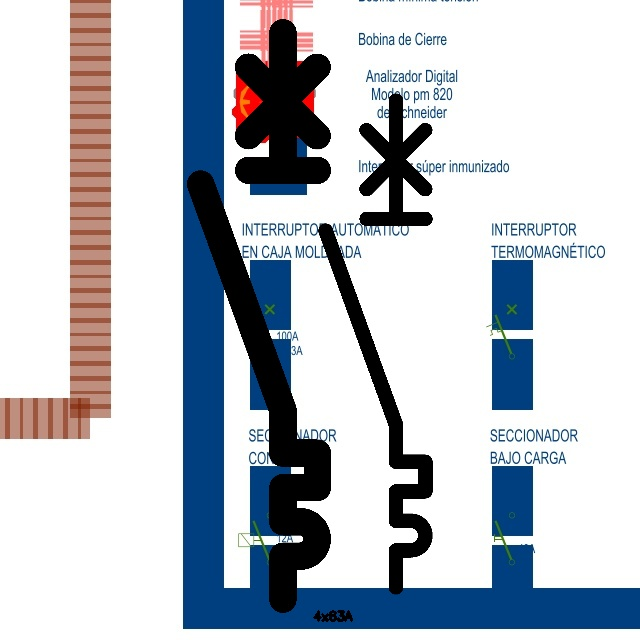interruptor_termomagnetico: (186, 18, 332, 614), (313, 88, 438, 600)
